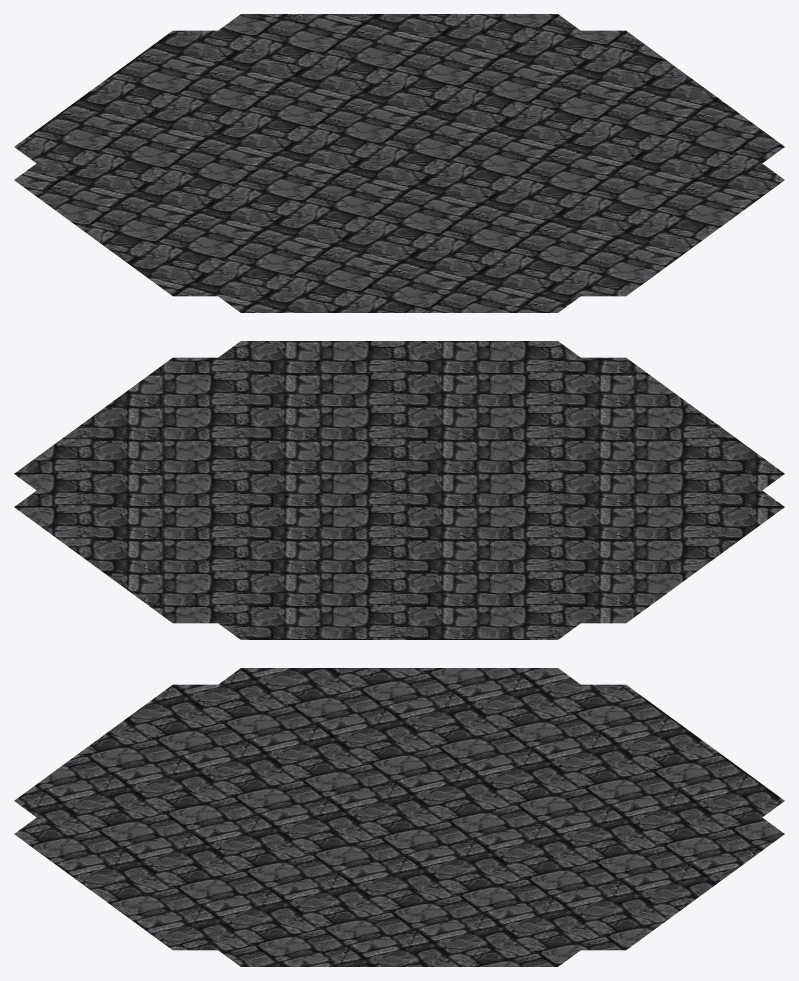
The model's file is floor.obj.
3 renders of one model, top to bottom at view 1: azimuth 30°, elevation 25°; view 2: azimuth 150°, elevation 25°; view 3: azimuth 270°, elevation 25°, orthographic.
Parts seen in each view (by area): view 1: Cylinder.014_Cylinder.001; view 2: Cylinder.014_Cylinder.001; view 3: Cylinder.014_Cylinder.001.
Boxes of the visible parts, x1,y1,x2,y2 form: Cylinder.014_Cylinder.001: [14, 14, 784, 312]; Cylinder.014_Cylinder.001: [14, 341, 784, 639]; Cylinder.014_Cylinder.001: [14, 668, 784, 966].
Bounding box in the file's own units: 18 × 3e-06 × 19.63.
